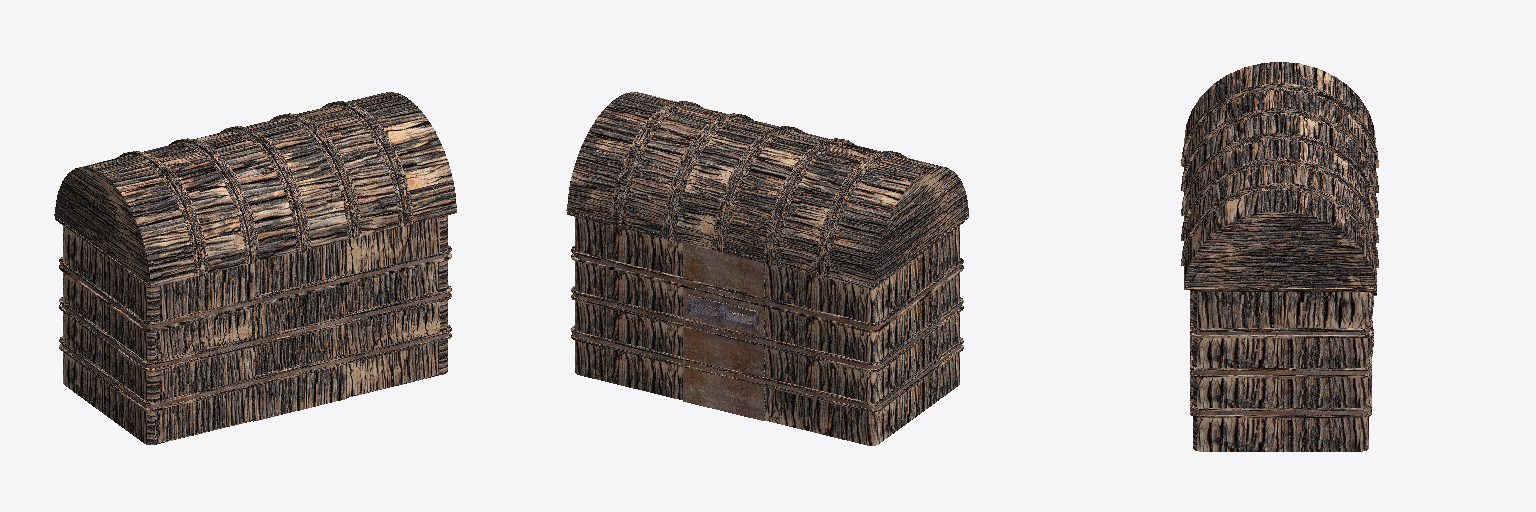
3 renders of one model, left to right at view 1: azimuth 30°, elevation 25°; view 2: azimuth 150°, elevation 25°; view 3: azimuth 270°, elevation 25°, orthographic.
Parts seen in each view (by area): view 1: Cube; view 2: Cube; view 3: Cube.
Boxes of the visible parts, x1,y1,x2,y2 form: Cube: [54, 92, 456, 444]; Cube: [566, 92, 968, 445]; Cube: [1181, 62, 1378, 451].
Size of the model in its own units: 112 by 84.97 by 62.65.
4 materials, 3 textured.